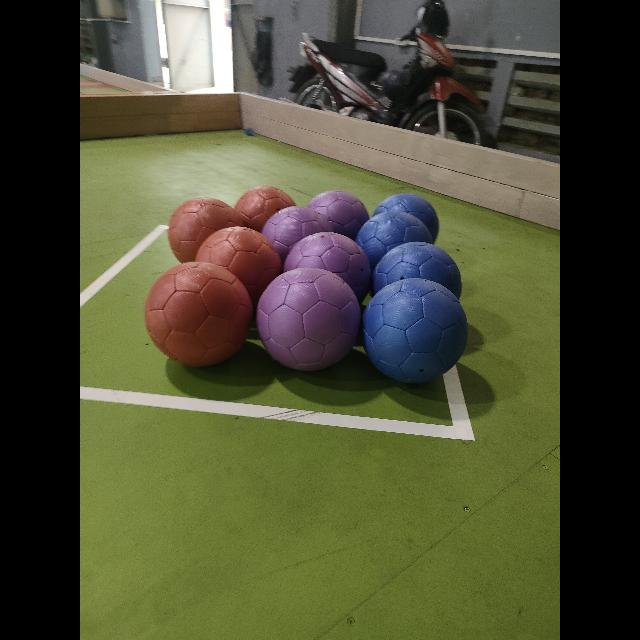B: (363, 278, 467, 382), (370, 243, 464, 323), (355, 213, 431, 270), (376, 193, 440, 245)
P: (256, 268, 360, 370), (286, 230, 372, 302), (263, 208, 331, 264), (307, 190, 369, 240)
R: (144, 262, 252, 366), (188, 229, 278, 305), (168, 198, 246, 262), (237, 183, 295, 241)
